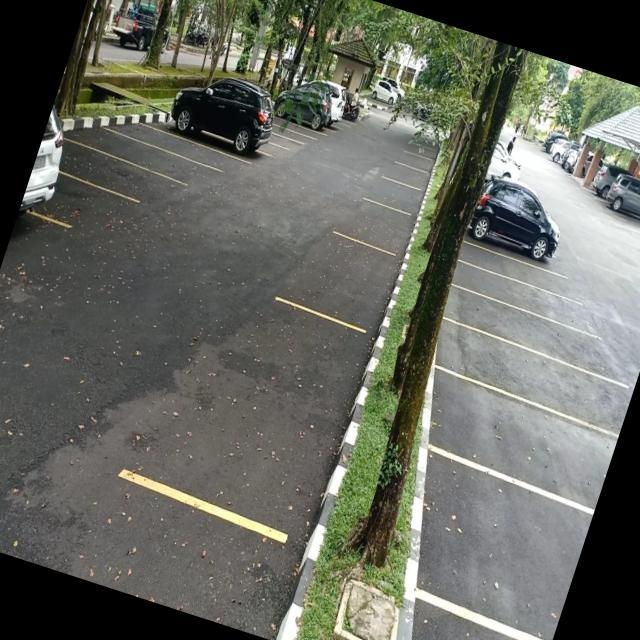empty: (172, 282, 374, 551), (402, 450, 598, 640), (420, 368, 622, 511), (432, 318, 600, 416), (442, 282, 592, 368), (299, 228, 403, 334), (450, 260, 588, 330), (59, 140, 164, 210), (459, 241, 578, 301), (80, 122, 192, 182), (124, 118, 228, 172), (346, 194, 415, 257)
occupied: (157, 79, 279, 168), (464, 196, 566, 272)
